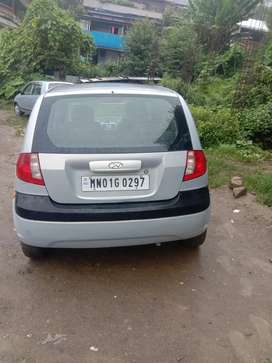MN01G0297: (81, 175, 150, 191)
